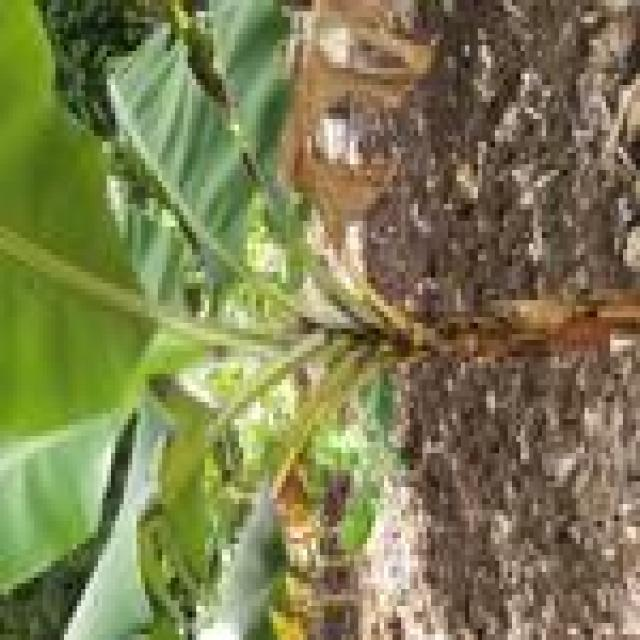Early_rust: (210, 368, 338, 640)
